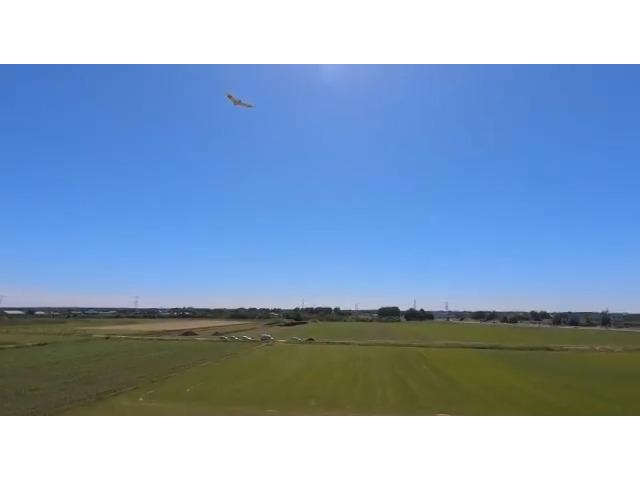Anti-Drone: (219, 85, 265, 115)
